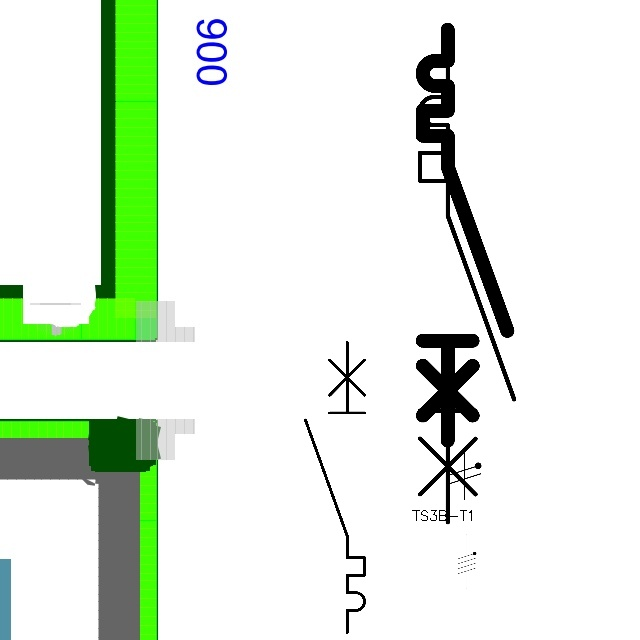interruptor_termomagnetico: (408, 50, 526, 534), (412, 19, 517, 451), (298, 335, 372, 640)
